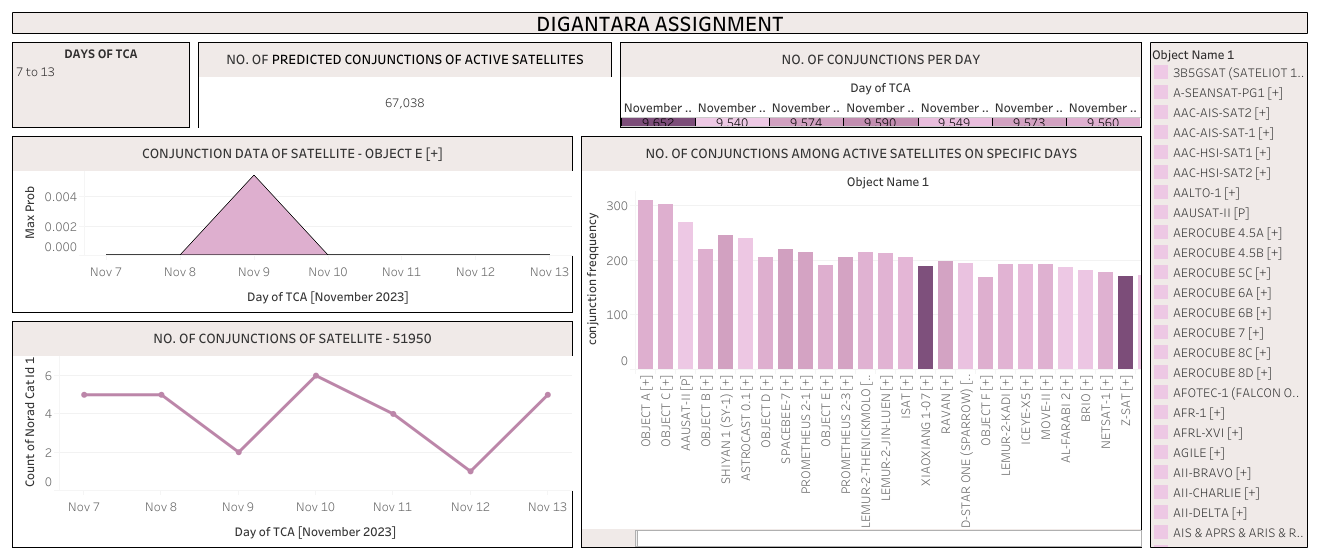

Layout of this report page (visuals, bound fields, positions):
{"tool":"tableau","page":{"name":"Dashboard 1","canvas":[1000,1000],"units":"permille","ordinal":0},"visuals":[{"type":"text","box":[6.1,13.5,987.9,54]},{"type":"filter","title":"Sheet 1","param":"[federated.0qklc320lavmz01erx2k20kgzpyj].[dy:TCA:qk]","box":[6.1,67.5,140.9,167.5]},{"type":"worksheet","title":"Sheet 3","mark":"Automatic","box":[146.9,67.5,319.7,167.5]},{"type":"worksheet","title":"Sheet 5","mark":"Square","cols":["TCA"],"box":[466.6,67.5,401.6,167.5]},{"type":"legend","title":"Sheet 1","param":"[federated.0qklc320lavmz01erx2k20kgzpyj].[none:OBJECT_NAME_1:nk]","box":[868.2,67.5,125.8,919]},{"type":"worksheet","title":"Sheet 2","mark":"Area","rows":["MAX_PROB"],"cols":["TCA"],"box":[6.1,235,431,330.3]},{"type":"worksheet","title":"Sheet 1","mark":"Bar","rows":["Calculation_188306779561193472"],"cols":["OBJECT_NAME_1"],"box":[437.1,235,431.1,751.5]},{"type":"worksheet","title":"Sheet 4","mark":"Line","rows":["NORAD_CAT_ID_1"],"cols":["TCA"],"box":[6.1,565.3,431,421.2]}]}

Visuals, with their boxes on the dashboard's canvas, which has no fixed pixel size, in thousandths of its width and height (x1, y1, x2, y2). These are canvas units, not pixel positions in the 1319x559 screenshot, which may show the page scaled, cropped or inside an application window:
text: 6 14 994 68
"Sheet 1" filter: 6 68 147 235
"Sheet 3" worksheet: 147 68 467 235
"Sheet 5" worksheet (Square marks): 467 68 868 235
"Sheet 1" legend: 868 68 994 986
"Sheet 2" worksheet (Area marks): 6 235 437 565
"Sheet 1" worksheet (Bar marks): 437 235 868 986
"Sheet 4" worksheet (Line marks): 6 565 437 986
